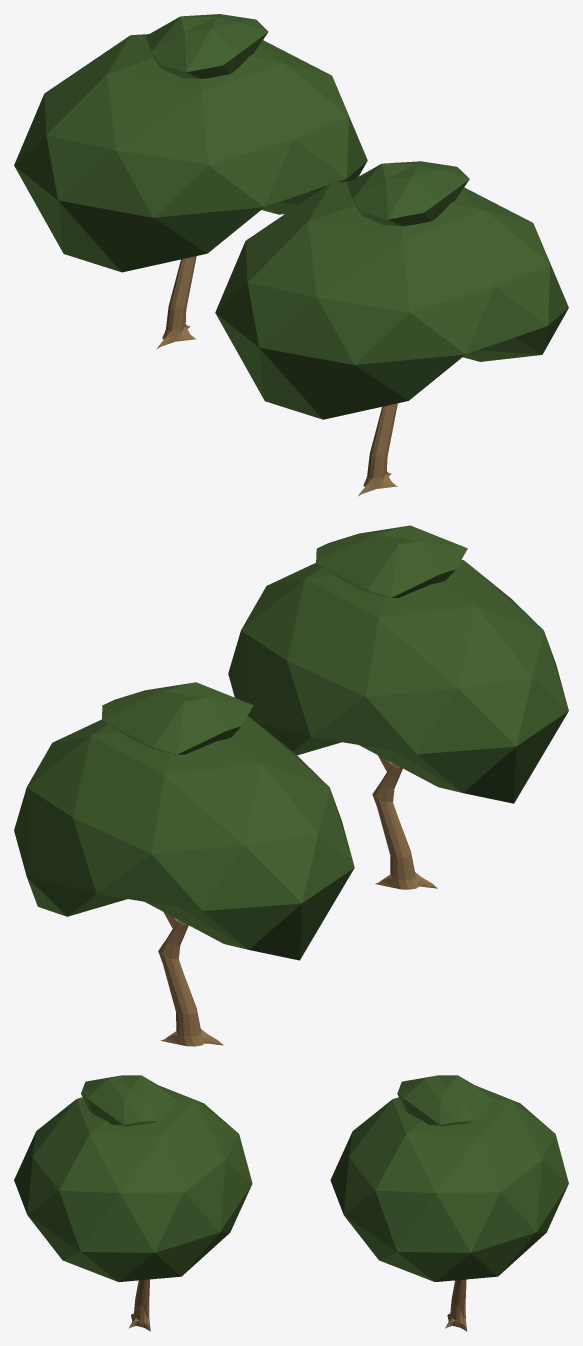
Rendered from Trees.fbx.
The picture shows the model from 3 angles, top to bottom: view 1: azimuth 30°, elevation 25°; view 2: azimuth 150°, elevation 25°; view 3: azimuth 270°, elevation 25°; orthographic projection. The views are drawn at different scales.
Parts seen in each view (by area): view 1: Icosphere_1_1, Icosphere_1_2, Icosphere_00_2_2, Icosphere_00_2_1, Cylinder_5_1, Cylinder_5_2; view 2: Icosphere_1_2, Icosphere_1_1, Icosphere_00_2_1, Icosphere_00_2_2, Cylinder_5_1, Cylinder_5_2; view 3: Icosphere_1_1, Icosphere_1_2, Icosphere_00_2_1, Icosphere_00_2_2, Cylinder_5_1, Cylinder_5_2.
Boxes of the visible parts, x1,y1,x2,y2 form: Icosphere_1_1: (215,181,568,419); Icosphere_1_2: (14,34,367,272); Icosphere_00_2_2: (145,14,268,78); Icosphere_00_2_1: (347,161,469,226); Cylinder_5_1: (358,403,397,496); Cylinder_5_2: (157,256,196,348); Icosphere_1_2: (14,716,354,960); Icosphere_1_1: (228,559,568,803); Icosphere_00_2_1: (316,525,467,597); Icosphere_00_2_2: (102,682,253,754); Cylinder_5_1: (372,755,437,889); Cylinder_5_2: (158,912,223,1046); Icosphere_1_1: (14,1085,252,1281); Icosphere_1_2: (330,1085,568,1281); Icosphere_00_2_1: (81,1075,177,1126); Icosphere_00_2_2: (397,1075,493,1126); Cylinder_5_1: (128,1279,150,1331); Cylinder_5_2: (445,1279,467,1331).
Size of the model in its own units: 6325 by 6624 by 13205.
